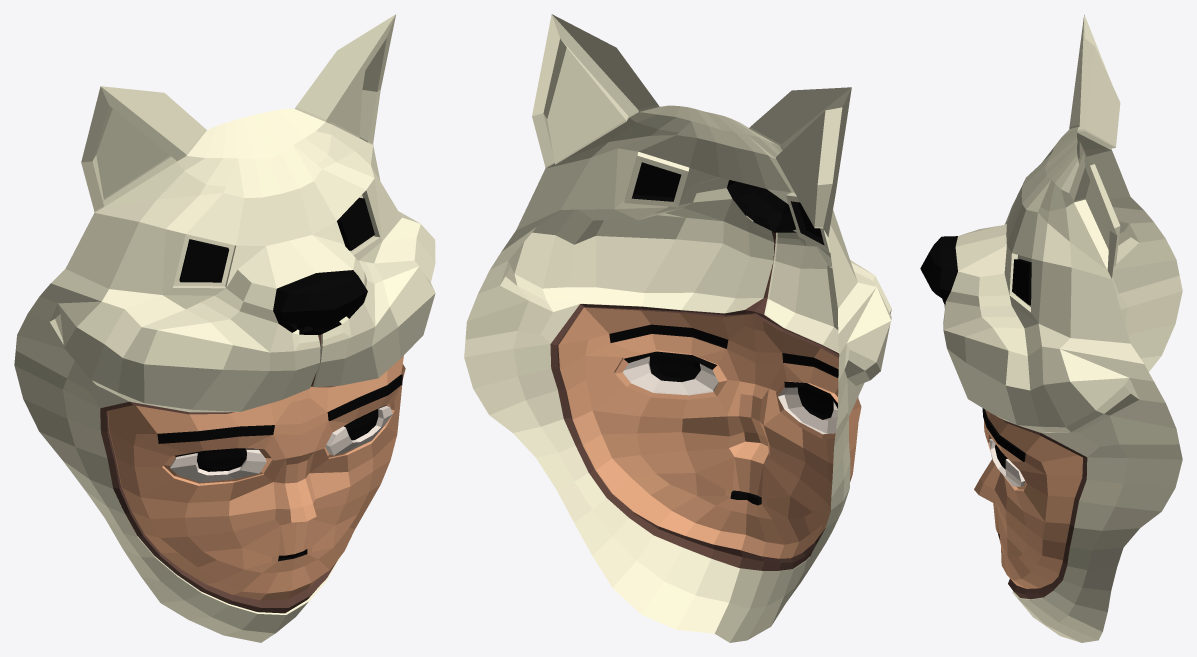
Rendered from gougou-1.obj.
The picture shows the model from 3 angles, left to right: view 1: azimuth 30°, elevation 25°; view 2: azimuth 150°, elevation 25°; view 3: azimuth 270°, elevation 25°; orthographic projection. The views are drawn at different scales.
Parts seen in each view (by area): view 1: Cube.004; view 2: Cube.004; view 3: Cube.004.
Boxes of the visible parts, <box> form: Cube.004: <box>14,14,435,642</box>; Cube.004: <box>464,14,891,642</box>; Cube.004: <box>920,14,1182,642</box>.
Size of the model in its own units: 163 by 248 by 107.
